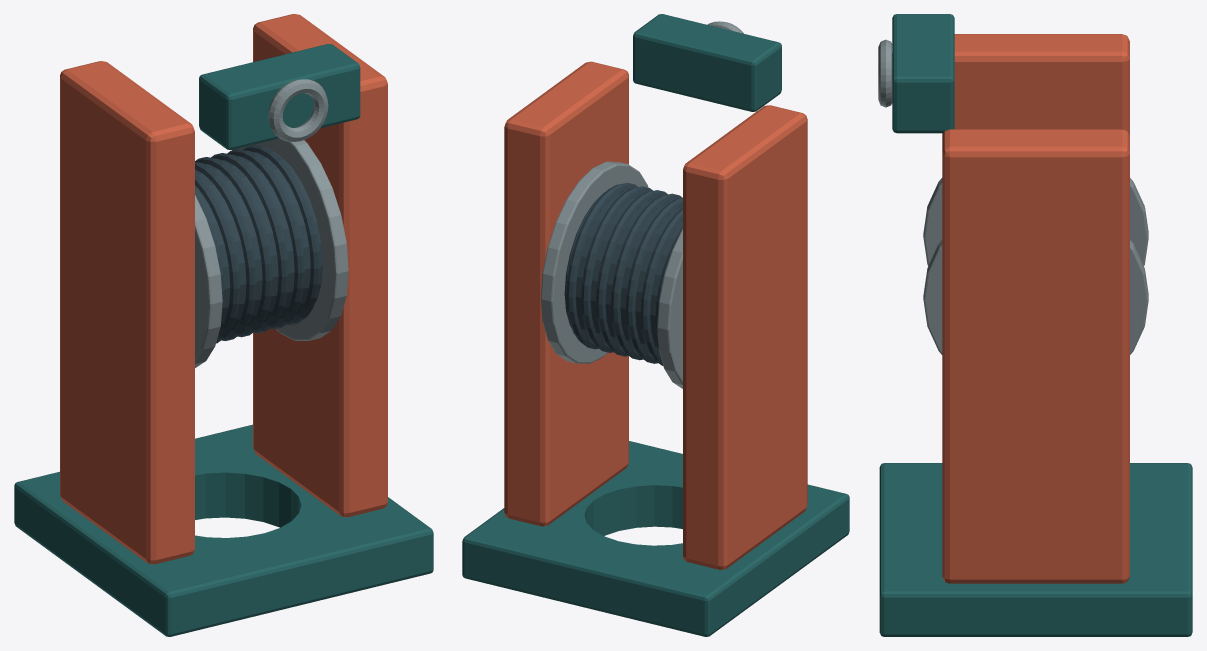
Rendered from winch-lod-0.glb.
3 renders of one model, left to right at view 1: azimuth 30°, elevation 25°; view 2: azimuth 150°, elevation 25°; view 3: azimuth 270°, elevation 25°, orthographic. The views are drawn at different scales.
Visible parts, largest first — view 1: winch_lod_0; view 2: winch_lod_0; view 3: winch_lod_0.
Boxes of the visible parts, box(x1,y1,x2,y2) form: winch_lod_0: box(14, 14, 433, 636); winch_lod_0: box(462, 14, 849, 636); winch_lod_0: box(878, 14, 1192, 636).
Size of the model in its own units: 1 by 1.87 by 1.
1 material, 1 textured.
